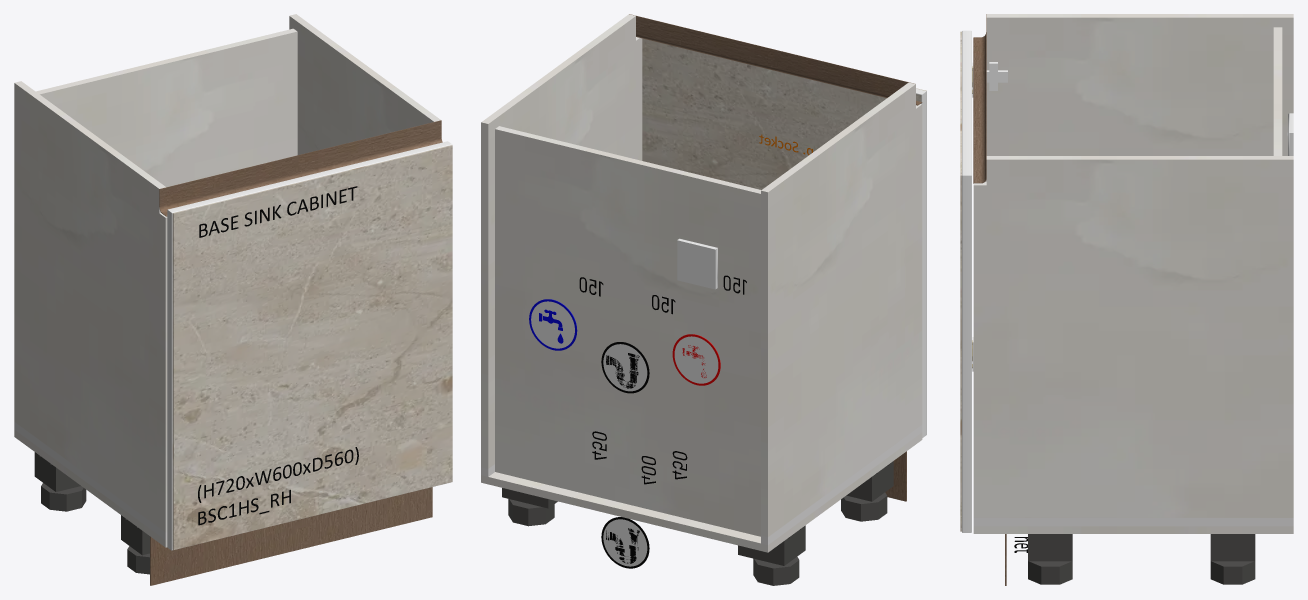
Rendered from BSC1HS_RH_CJ (H720xW600xD560).glb.
3 views of the same model, side by side, from view 1: azimuth 30°, elevation 25°; view 2: azimuth 150°, elevation 25°; view 3: azimuth 270°, elevation 25° (orthographic). The views are drawn at different scales.
Size of what is drawn, in the model's own units: 0.6 by 0.82 by 0.5899.
17 materials, 3 textured.
